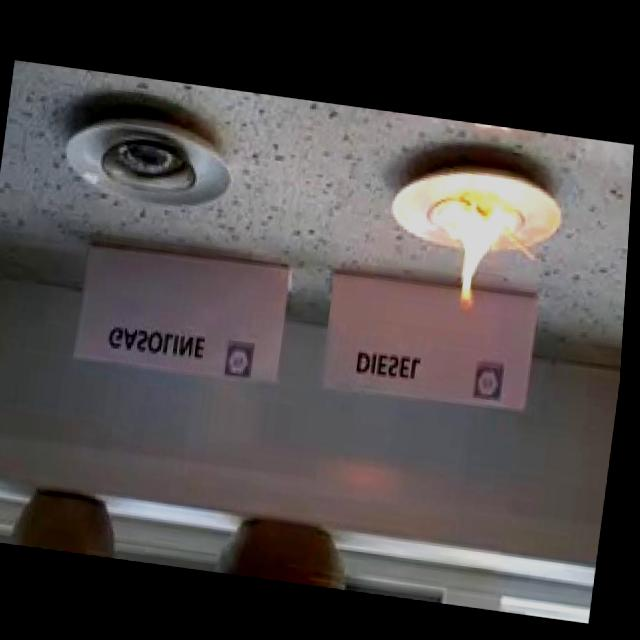no_helmet: (421, 183, 521, 319)
